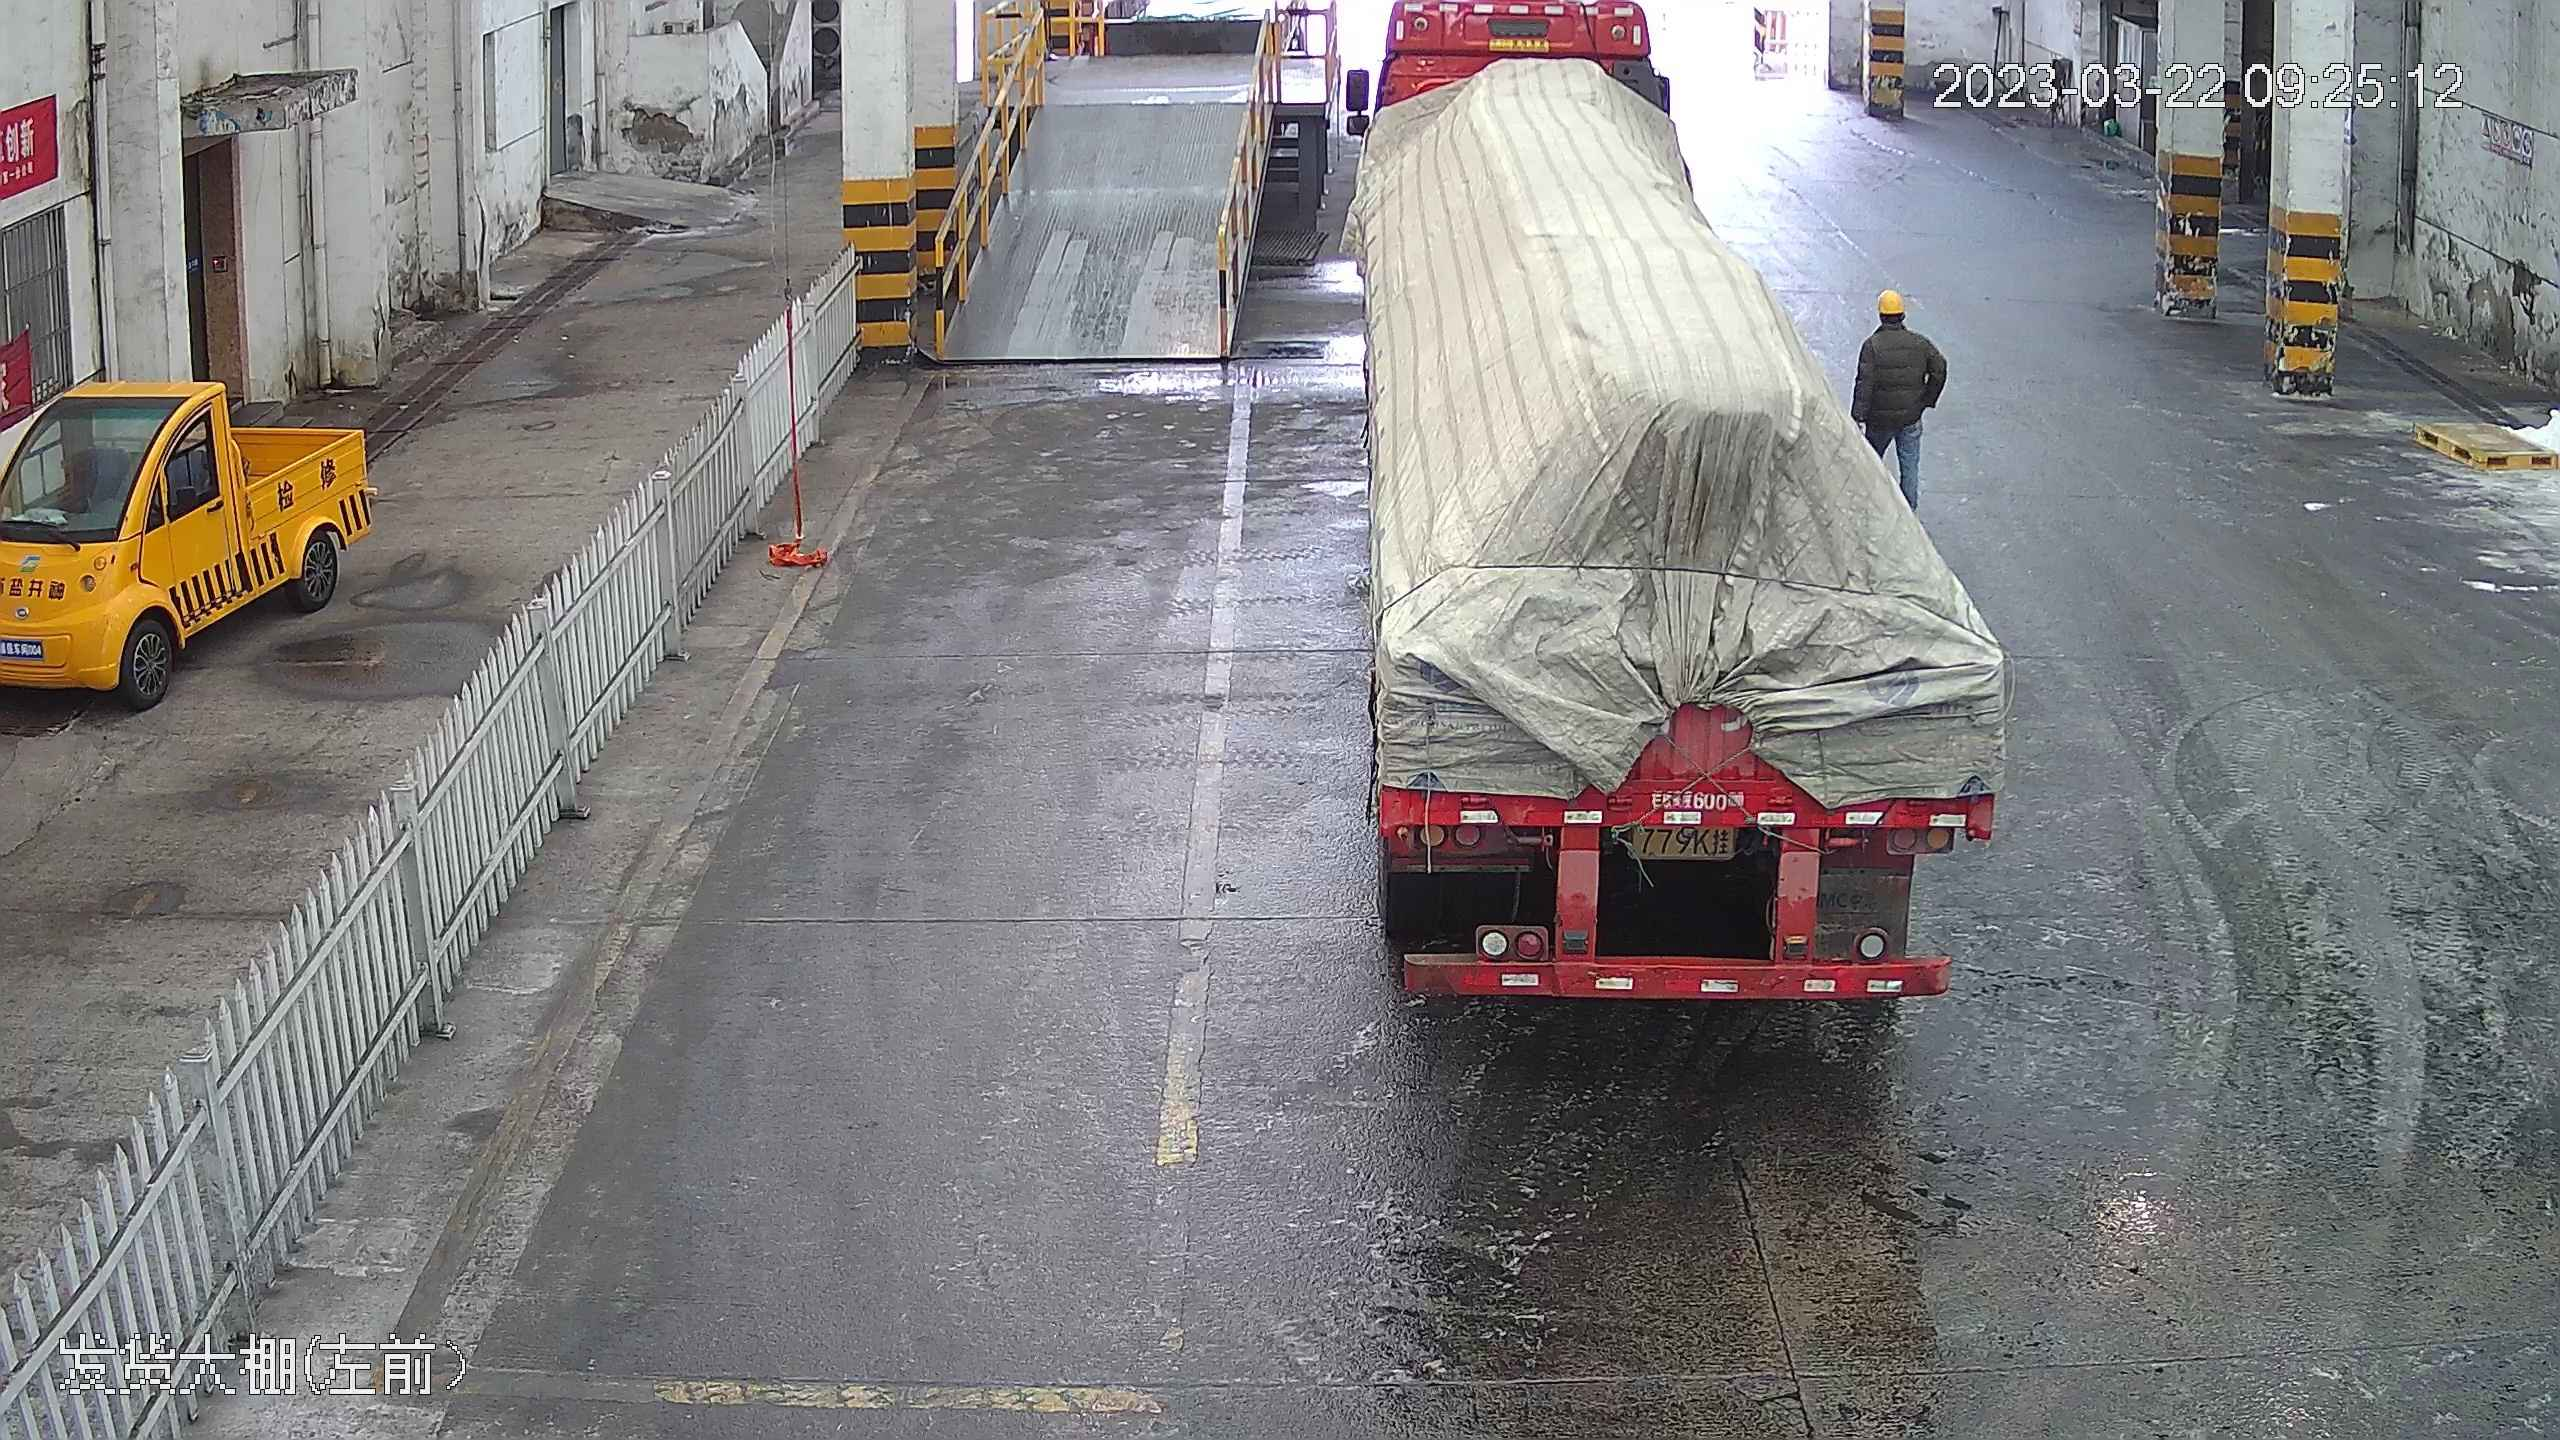head: (1863, 288, 1935, 354)
helmet: (1874, 288, 1907, 314)
people: (1852, 284, 1948, 500)
truck: (1347, 13, 2031, 1009)
